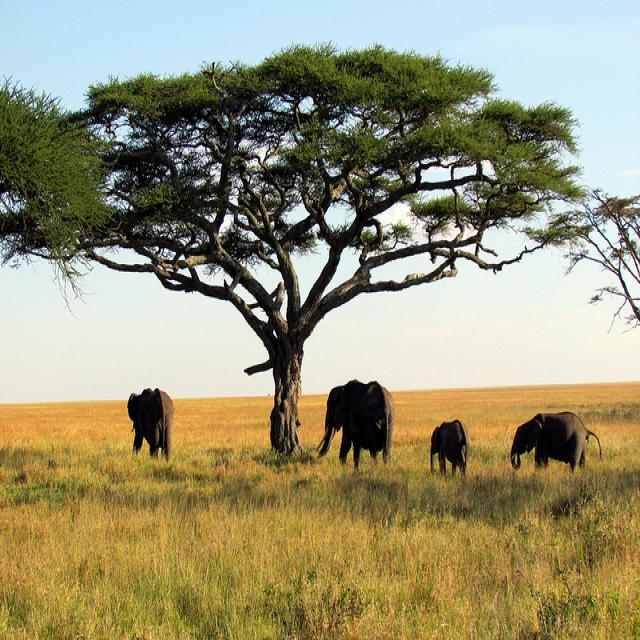Elephant: (315, 377, 395, 471), (510, 411, 601, 473), (127, 387, 174, 460), (429, 419, 469, 477)
